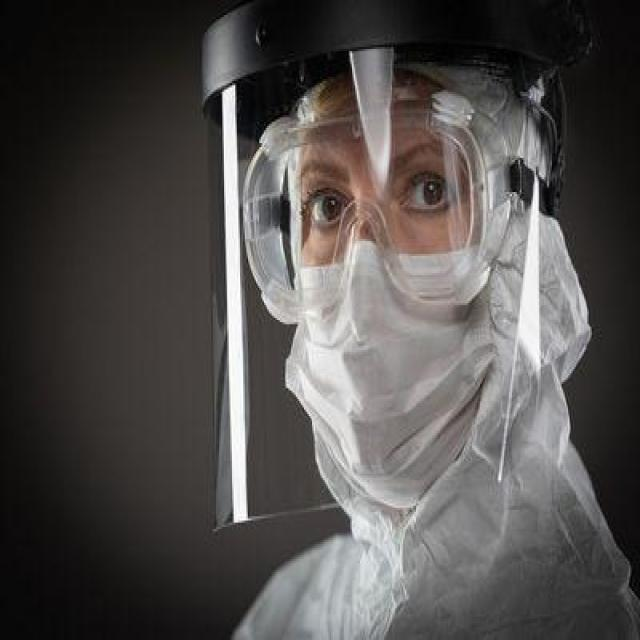Mask: (290, 252, 488, 506)
